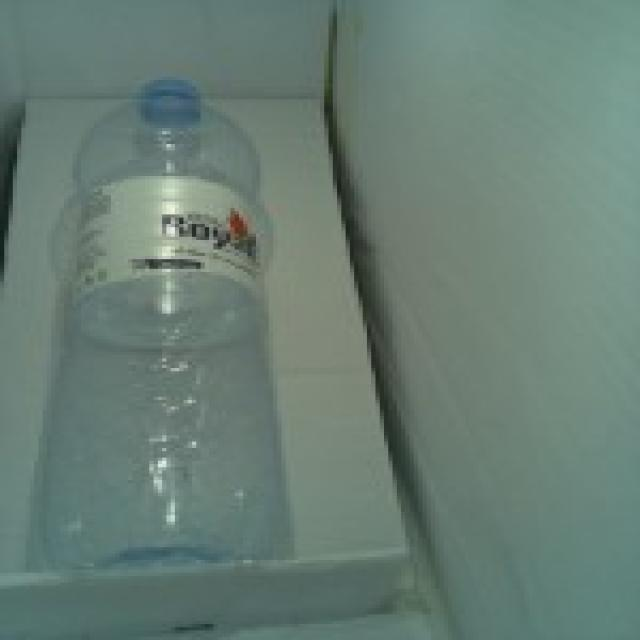good: (38, 62, 318, 578)
